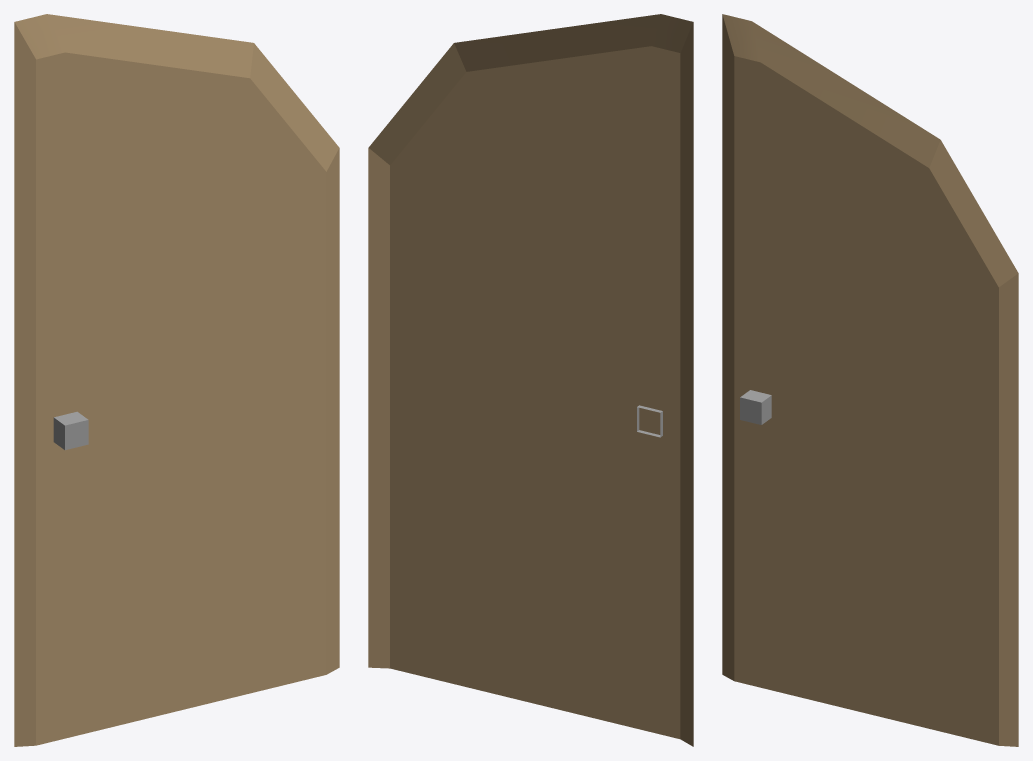
Rendered from Door.fbx.
The picture shows the model from 3 angles, left to right: view 1: azimuth 30°, elevation 25°; view 2: azimuth 150°, elevation 25°; view 3: azimuth 330°, elevation 25°; orthographic projection. The views are drawn at different scales.
Parts seen in each view (by area): view 1: Door1; view 2: Door1; view 3: Door1.
Boxes of the visible parts, x1,y1,x2,y2 form: Door1: (14,14,339,746); Door1: (368,14,693,746); Door1: (722,14,1018,746).
Bounding box in the file's own units: 1.38 × 2.93 × 0.1137.
